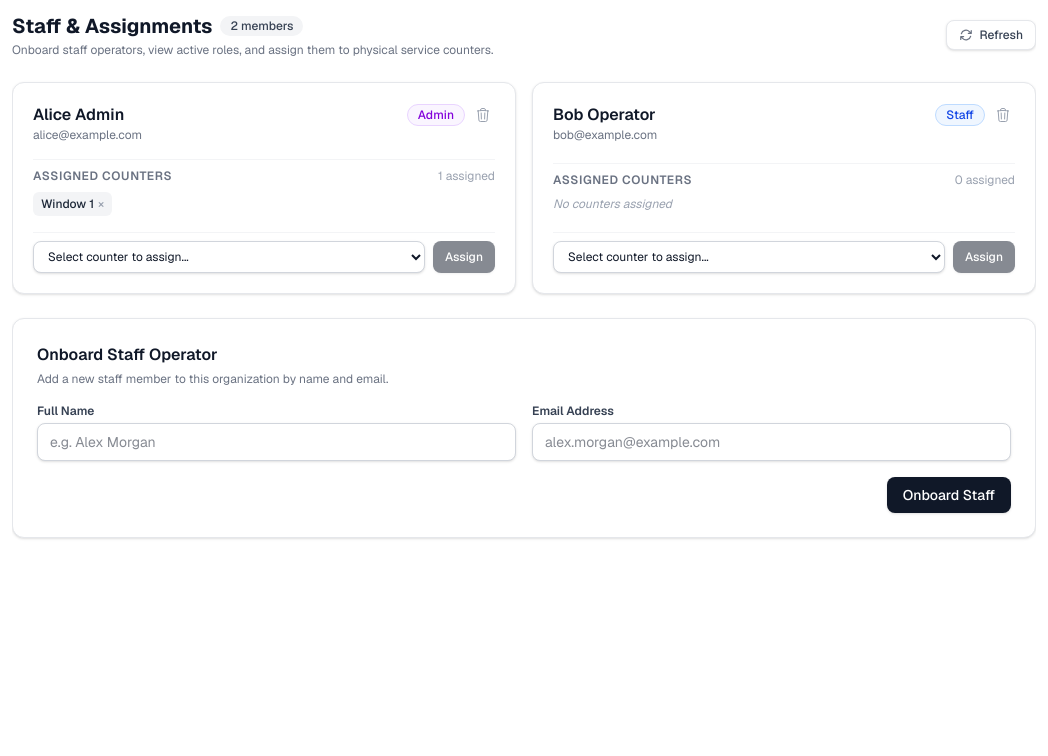
Test: StaffManagement › Onboarding Staff Operator › prevents duplicate submissions via synchronous lock ref
The width and height of the screenshot is (1048, 756).
Expected: the heading "Alice Admin" is shown, [33, 104, 124, 125]
Step 1. Type "David" into the field labelled "Full Name" → {"x": 276, "y": 442}, box [37, 423, 516, 461]
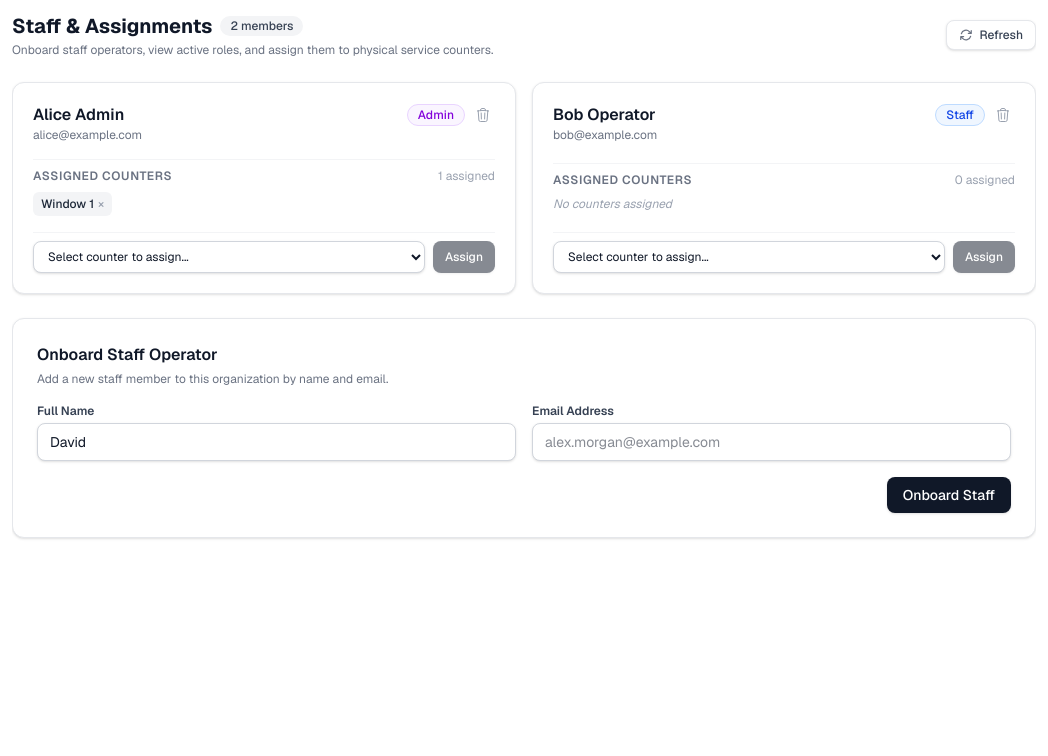
Step 2. Type "david@example.com" into the field labelled "Email Address" → {"x": 772, "y": 442}, box [532, 423, 1011, 461]
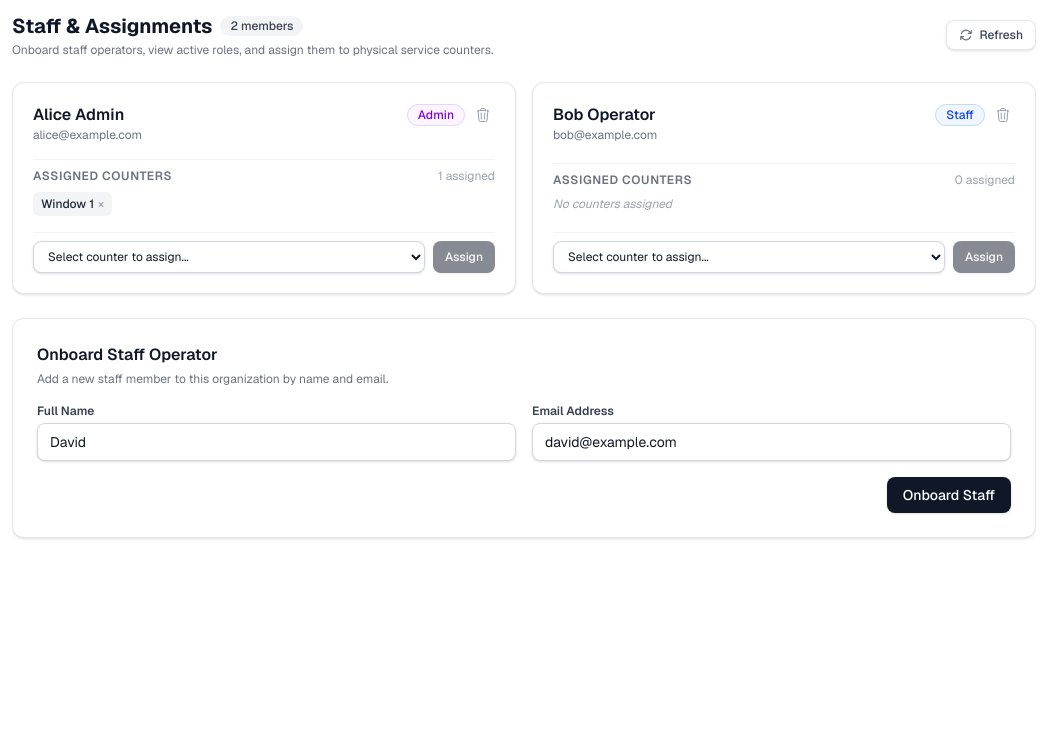
Step 3. Click the button "Onboard Staff" → {"x": 949, "y": 495}, box [887, 477, 1011, 513]
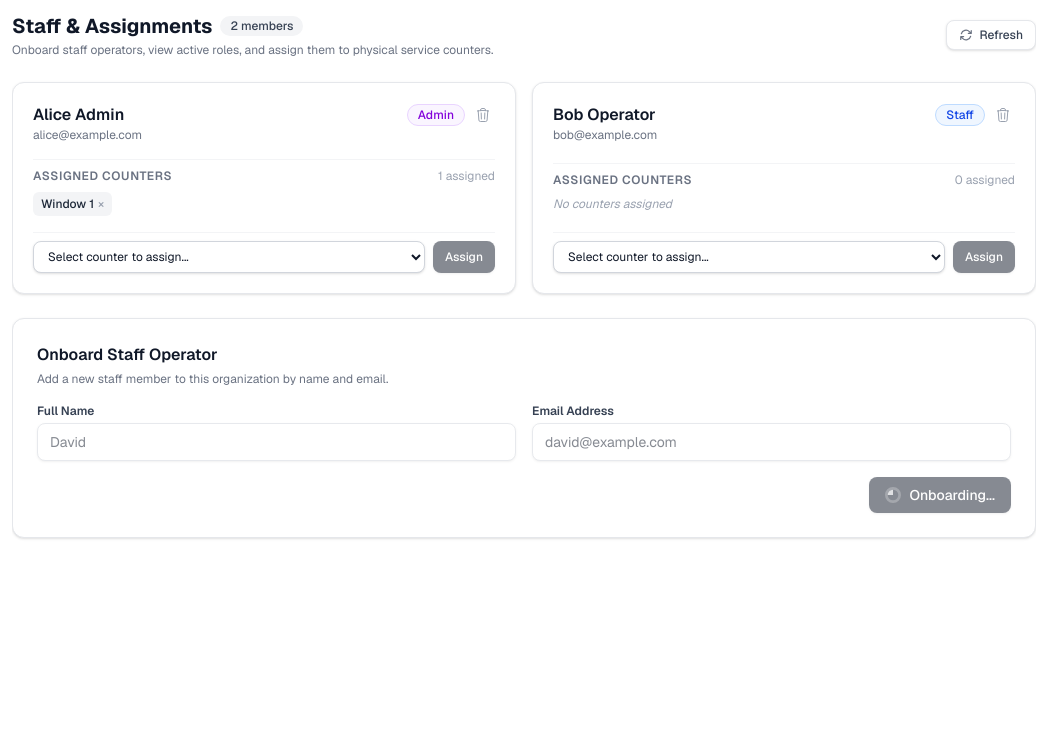
Step 4. Click the button named "onboard staff" → {"x": 940, "y": 495}, box [869, 477, 1011, 513]
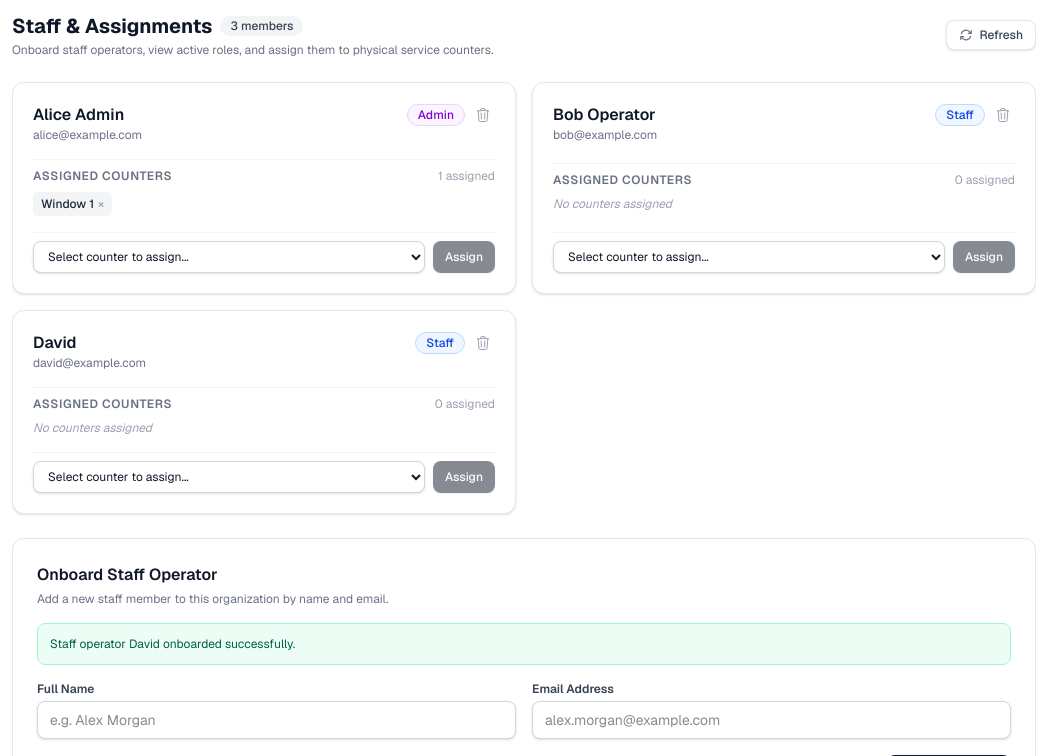
Result: the heading "David" is shown at [33, 332, 76, 353]
